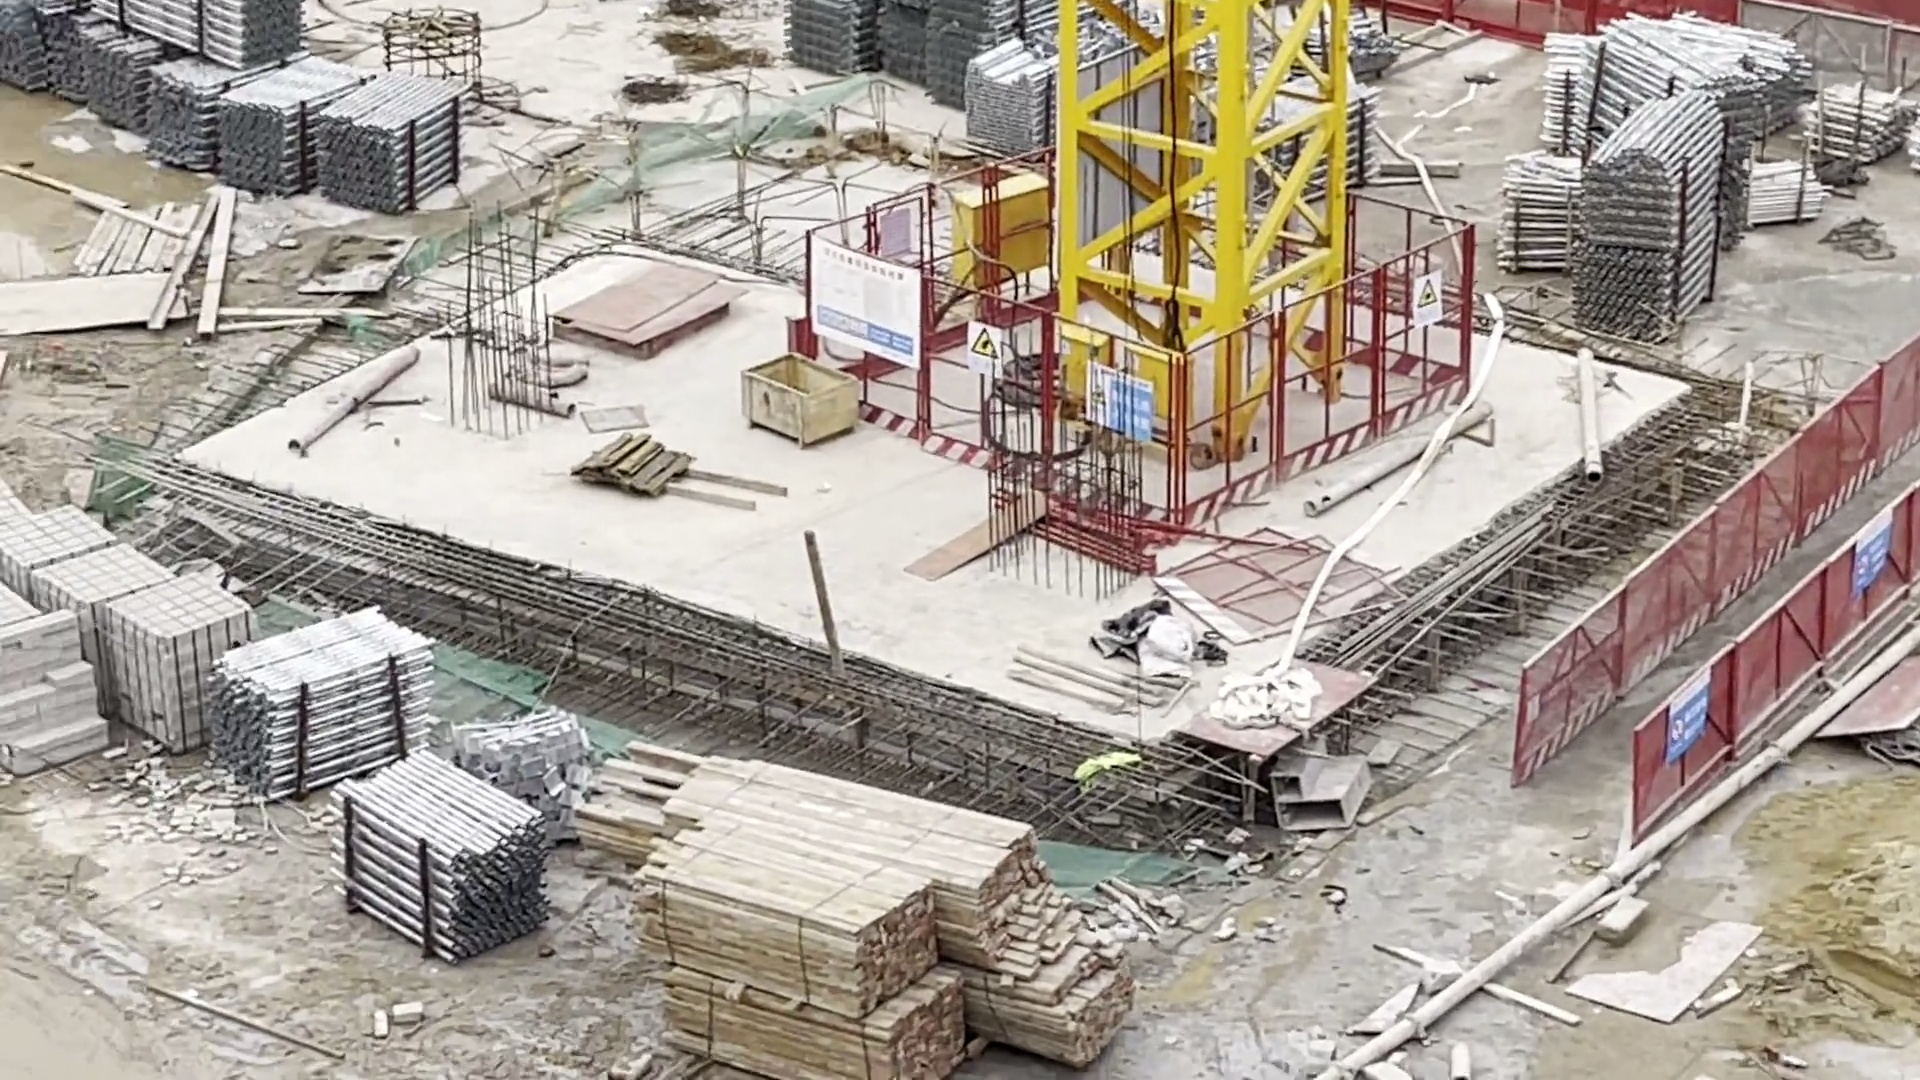brick: (109, 595, 255, 761), (1, 597, 131, 766), (46, 541, 171, 624), (7, 496, 111, 575)
ebox: (953, 167, 1067, 318)
fence: (824, 100, 1449, 556), (816, 132, 1503, 546), (1478, 372, 1920, 810), (1502, 371, 1920, 822)
scaffold: (331, 771, 567, 957), (1543, 7, 1826, 141), (231, 607, 447, 781), (1571, 142, 1709, 345), (324, 94, 435, 229), (119, 1, 295, 71), (220, 91, 320, 200), (1807, 66, 1916, 164), (885, 3, 986, 107), (1495, 161, 1584, 278), (963, 57, 1058, 164), (781, 1, 884, 95), (79, 32, 158, 144), (150, 70, 215, 177), (32, 9, 95, 107), (1741, 160, 1828, 229), (4, 1, 47, 94)
slogan: (774, 228, 918, 389), (1077, 353, 1174, 448), (965, 320, 1036, 393), (1668, 675, 1716, 773), (1845, 502, 1891, 596), (1414, 272, 1443, 345)
wood: (700, 753, 1166, 1054), (655, 837, 915, 1007), (650, 957, 965, 1080)
